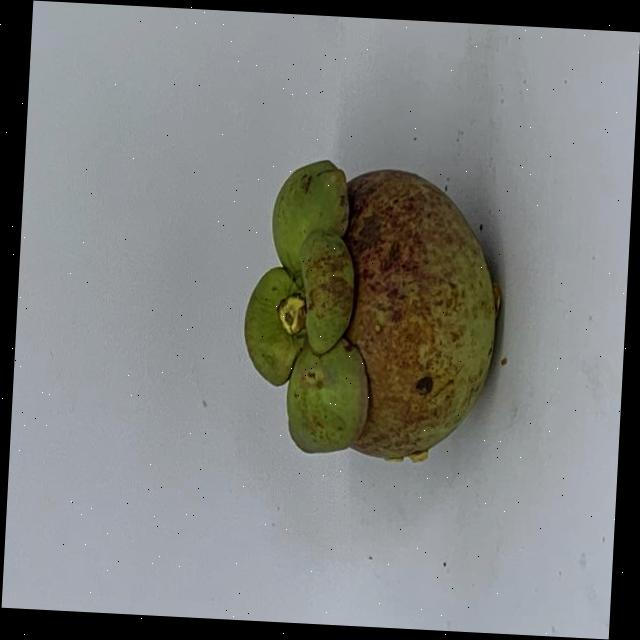mangosteen: (200, 113, 507, 507)
